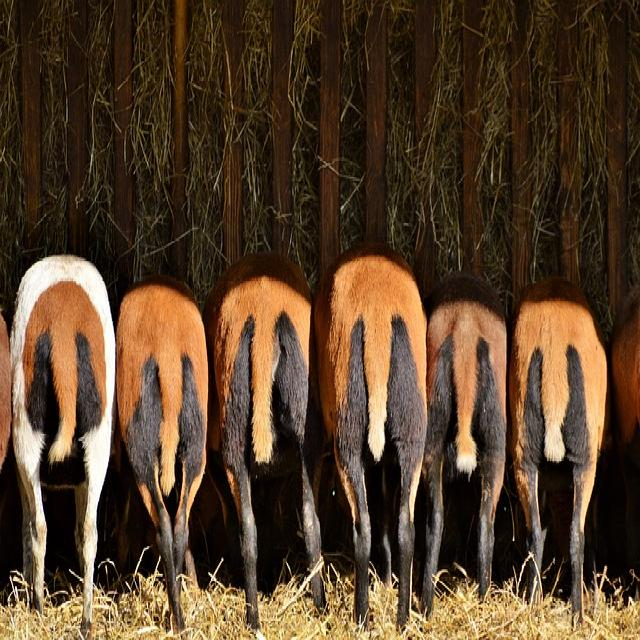goat: (313, 243, 432, 615), (202, 255, 317, 620), (9, 255, 116, 640), (512, 278, 613, 623), (113, 282, 210, 625), (426, 278, 518, 594)
